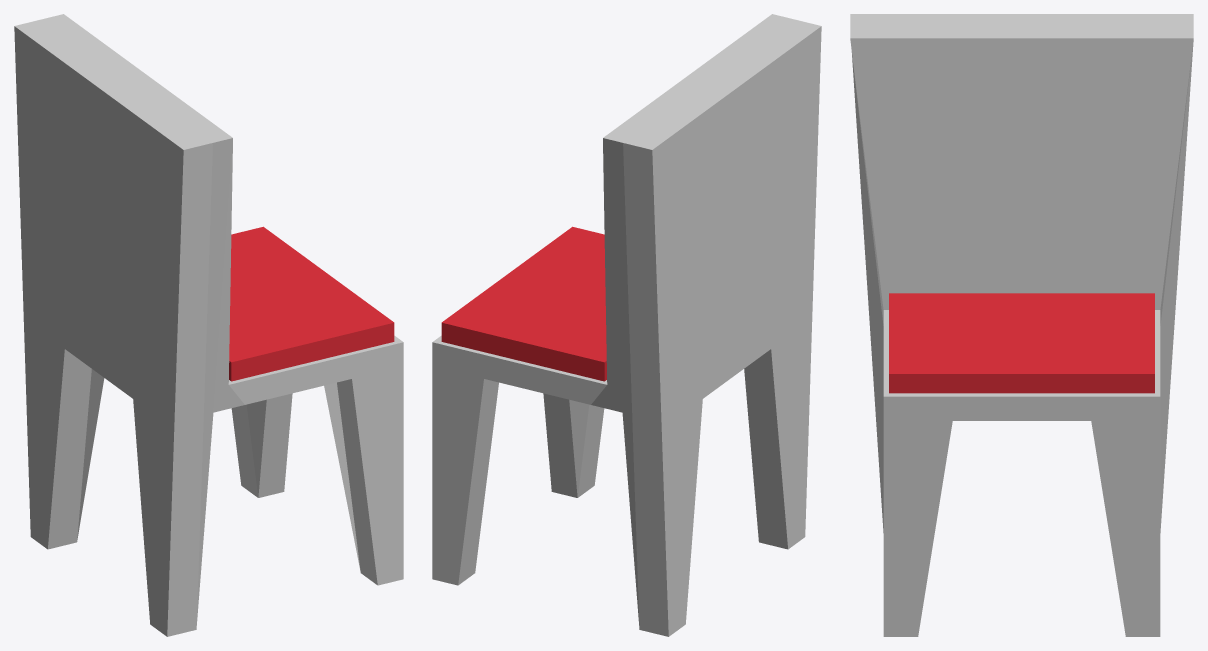
File: Chair.fbx
The picture shows the model from 3 angles, left to right: view 1: azimuth 30°, elevation 25°; view 2: azimuth 150°, elevation 25°; view 3: azimuth 270°, elevation 25°; orthographic projection.
Parts seen in each view (by area): view 1: Cube, Cube.001; view 2: Cube, Cube.001; view 3: Cube, Cube.001.
Part boxes in pixels (x1=…): Cube: x1=14, y1=14, x2=403, y2=636; Cube.001: x1=229, y1=226, x2=394, y2=381; Cube: x1=432, y1=14, x2=821, y2=636; Cube.001: x1=441, y1=226, x2=606, y2=381; Cube: x1=850, y1=14, x2=1193, y2=636; Cube.001: x1=889, y1=293, x2=1154, y2=393.
Bounding box in the file's own units: 382 × 770 × 474.
